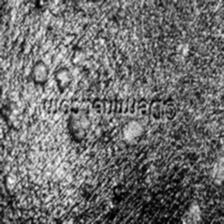Toxin: (68, 106, 92, 152), (122, 119, 144, 146), (32, 58, 48, 86), (182, 202, 202, 224), (55, 65, 71, 92)
